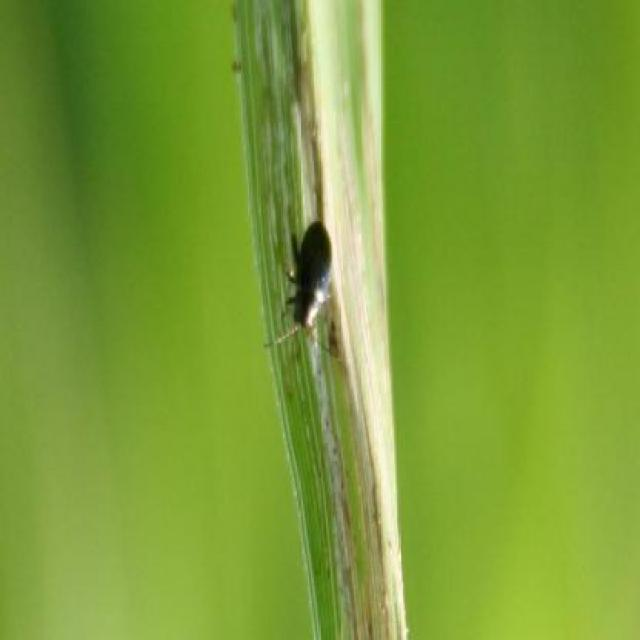rice-bug: (280, 220, 338, 343)
